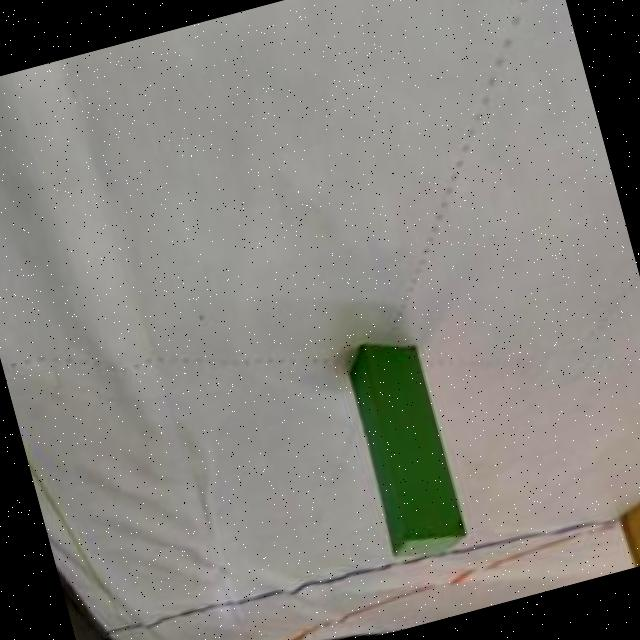greenbox: (333, 327, 471, 568)
